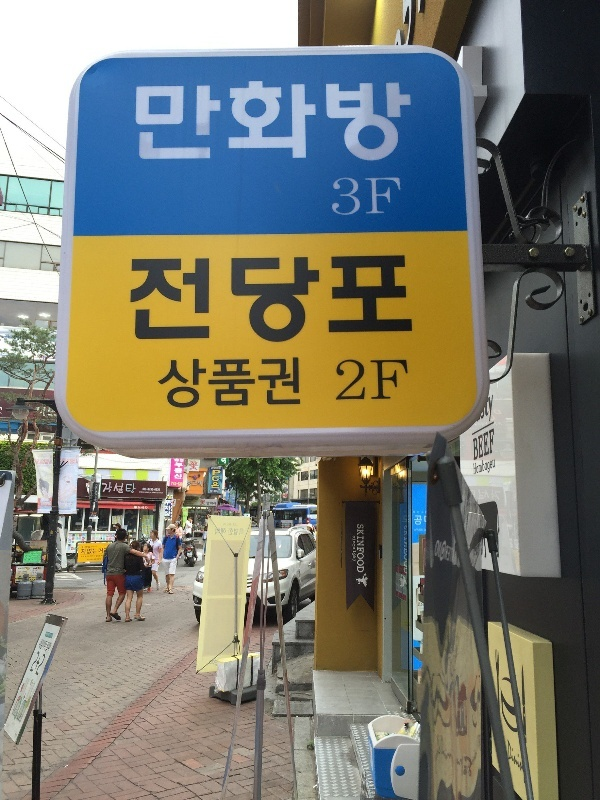text: (145, 255, 160, 344), (161, 255, 176, 344), (177, 255, 192, 344), (193, 255, 208, 344), (209, 255, 224, 344), (225, 255, 240, 344), (241, 255, 256, 344), (257, 255, 272, 344), (273, 255, 288, 344), (289, 255, 304, 344), (305, 255, 320, 344), (321, 255, 336, 344), (337, 255, 352, 344), (353, 255, 368, 344), (369, 255, 384, 344), (385, 255, 400, 344), (401, 255, 415, 344), (145, 82, 160, 163), (161, 82, 176, 163), (177, 82, 192, 163), (193, 82, 208, 163), (209, 82, 224, 163), (225, 82, 240, 163), (241, 82, 256, 163), (257, 82, 272, 163), (273, 82, 288, 163), (289, 82, 304, 163), (305, 82, 320, 163), (321, 82, 336, 163), (337, 82, 352, 163), (353, 82, 368, 163), (369, 82, 384, 163), (385, 82, 400, 163), (132, 255, 144, 344), (401, 82, 412, 163), (402, 516, 416, 574), (177, 358, 192, 410), (193, 358, 208, 410), (209, 358, 224, 410), (225, 358, 240, 410), (241, 358, 256, 410), (257, 358, 272, 410), (273, 358, 288, 410), (162, 358, 176, 410), (403, 1, 416, 54), (136, 82, 144, 163), (337, 359, 352, 402), (353, 359, 368, 402), (369, 359, 384, 402), (385, 359, 400, 402), (385, 177, 401, 217), (289, 358, 301, 410), (337, 177, 352, 217), (353, 177, 368, 217), (369, 177, 384, 217), (357, 524, 368, 573), (481, 428, 495, 462), (513, 739, 525, 776), (401, 359, 411, 402), (417, 1, 425, 54), (353, 536, 368, 562), (449, 537, 461, 568), (437, 537, 448, 568), (485, 393, 496, 423), (481, 456, 496, 476), (38, 651, 48, 676), (473, 428, 480, 462), (213, 470, 224, 489), (113, 482, 128, 495), (166, 500, 176, 517), (508, 739, 512, 776), (177, 459, 184, 480), (473, 456, 480, 476), (102, 482, 112, 495), (65, 458, 79, 466), (417, 516, 427, 526), (41, 639, 48, 653), (82, 548, 96, 555), (34, 458, 48, 465), (82, 554, 96, 561), (228, 528, 240, 536), (129, 482, 136, 495), (334, 177, 336, 217), (99, 548, 112, 554), (216, 527, 224, 535), (193, 480, 202, 487), (145, 488, 160, 492), (49, 639, 53, 653), (210, 490, 224, 494), (225, 522, 234, 528), (193, 461, 198, 471), (97, 554, 104, 561), (145, 491, 160, 494), (174, 459, 176, 480), (82, 546, 96, 549), (134, 506, 144, 510), (211, 467, 224, 470), (49, 458, 54, 465), (177, 482, 184, 487), (187, 480, 192, 487), (201, 500, 208, 505), (241, 528, 245, 536), (209, 502, 217, 506), (417, 511, 427, 514), (189, 461, 192, 471), (417, 529, 426, 532), (171, 482, 176, 487), (61, 458, 64, 466), (225, 527, 227, 535), (139, 491, 144, 494), (145, 506, 148, 510), (415, 516, 416, 526), (91, 546, 96, 548), (413, 511, 416, 514), (97, 548, 98, 555), (414, 529, 416, 532), (161, 491, 163, 494), (143, 488, 144, 492), (207, 502, 208, 506)
